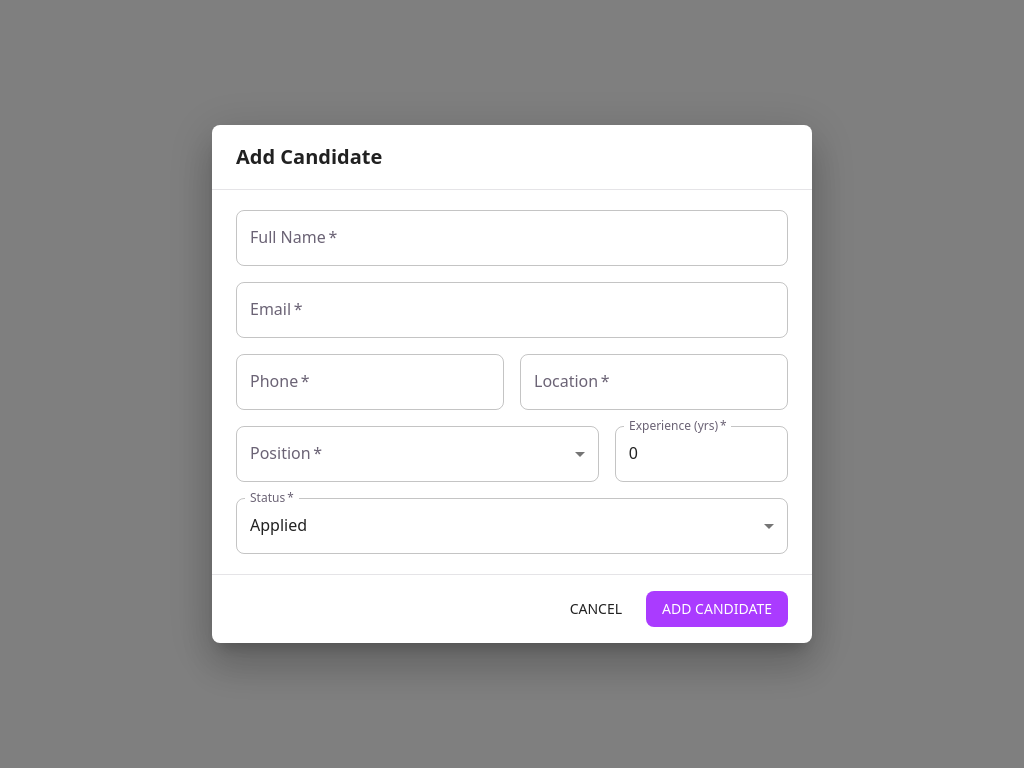
Scenario: AddCandidateDialog › when open › form validation › shows email error when email format is invalid
The width and height of the screenshot is (1024, 768).
Type "Jane Doe" into the field labelled "Full Name *".
click(512, 238); type("Jane Doe")  # box [236,210,788,266]
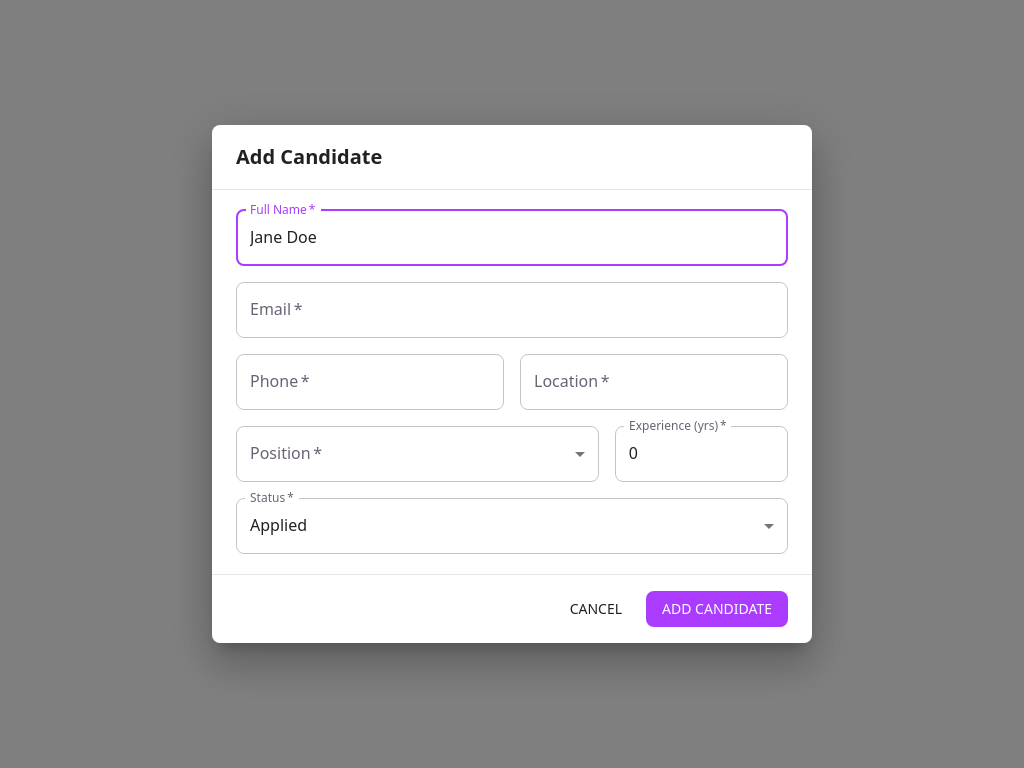
Type "not-an-email" into the field labelled "Email *".
click(512, 310); type("not-an-email")  # box [236,282,788,338]
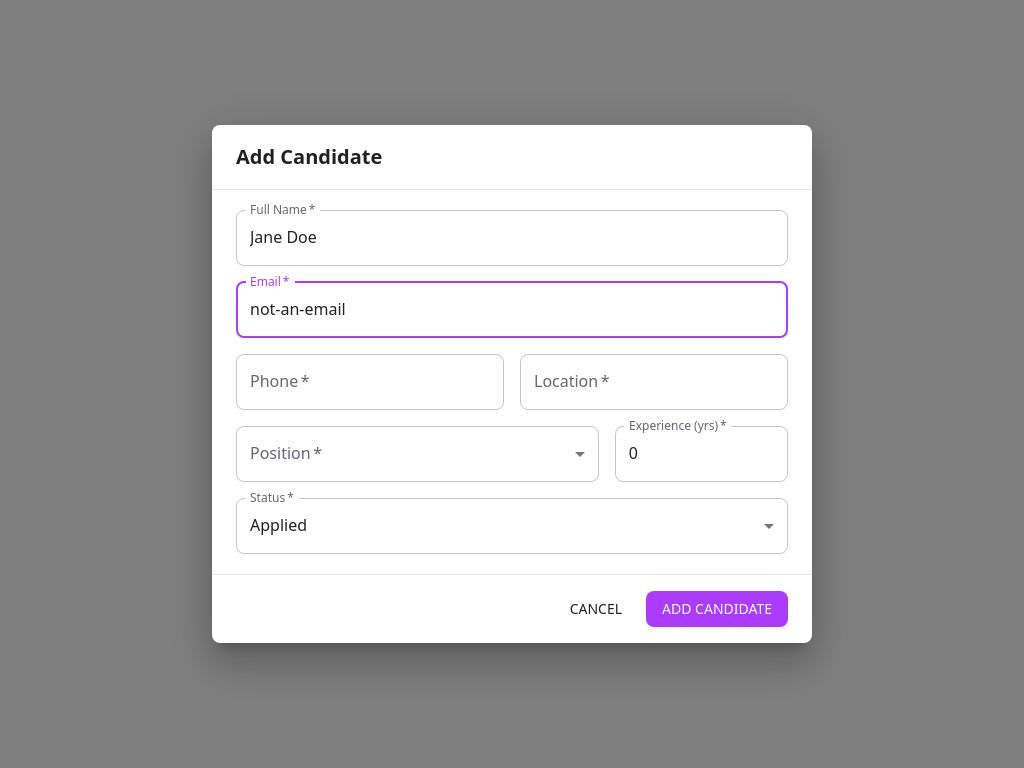
Click the button "Add Candidate".
click(717, 609)  # box [646,591,788,627]
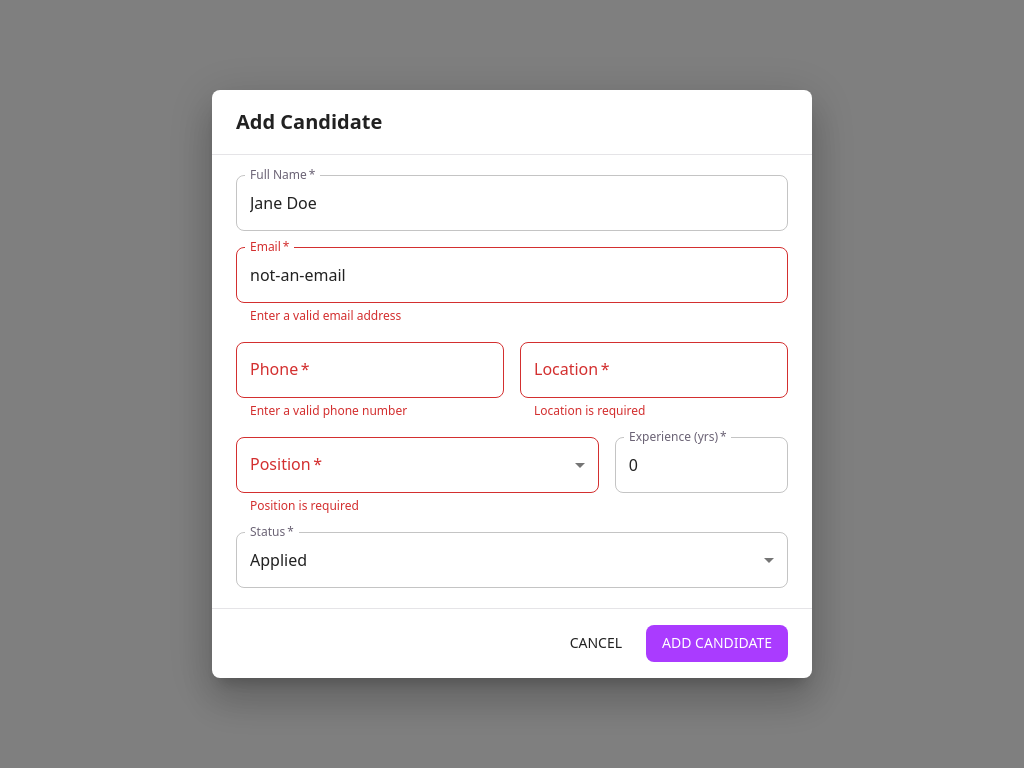
expect the text "Enter a valid email address" is shown: met, box [250,307,401,324]
